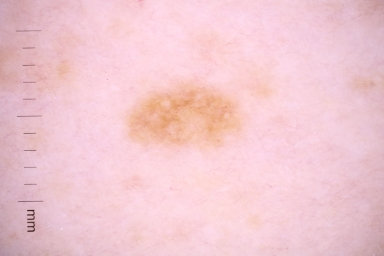nevus: (126, 90, 241, 147)
